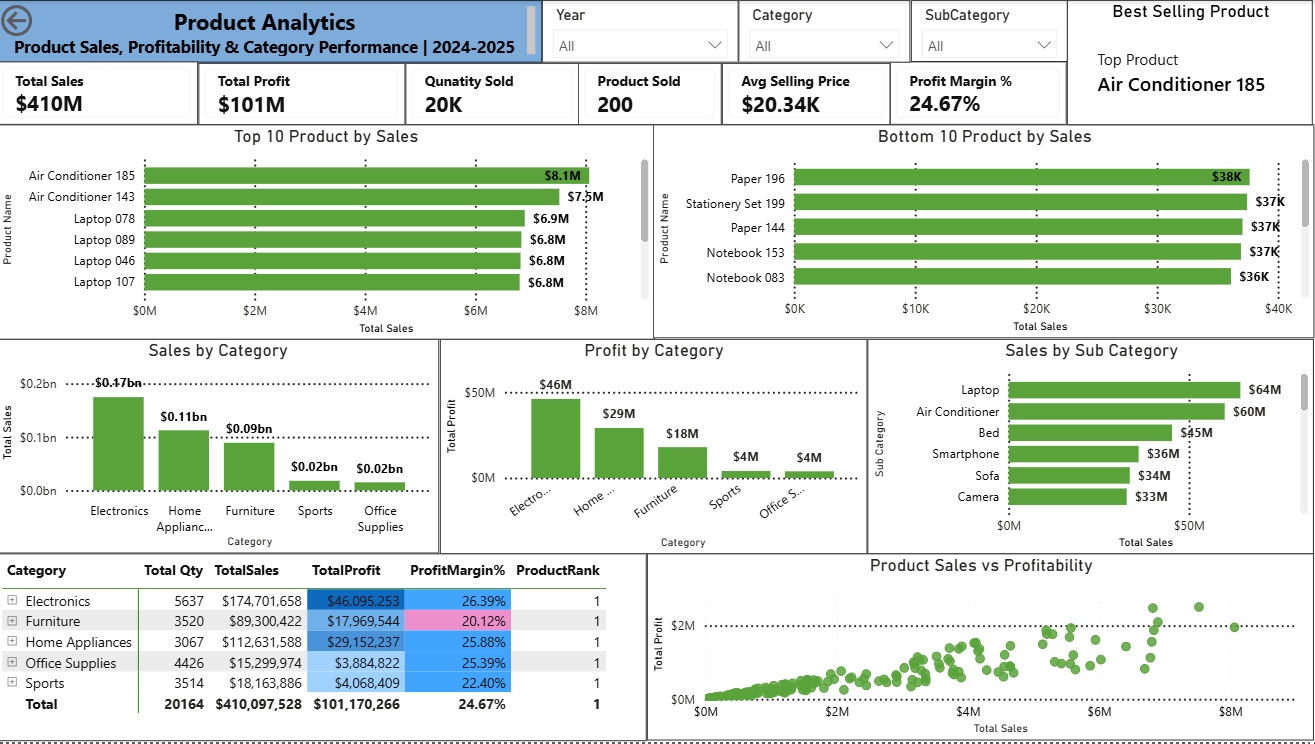

The page's visual inventory and layout, read from the dashboard file:
{"tool":"powerbi","page":{"name":"Product Analytics","canvas":[1280,720],"ordinal":3},"visuals":[{"type":"textbox","box":[0,0,530,60.6],"z":0},{"type":"cardVisual","fields":{"Data":["Orders.Total Sales"]},"box":[0,59.9,195.9,61.5],"z":1000},{"type":"cardVisual","fields":{"Data":["Orders.Total Profit"]},"box":[195.9,61.5,200.8,59.9],"z":2000},{"type":"cardVisual","fields":{"Data":["Orders.Total Qunatity"]},"box":[396.7,61.5,168.4,59.9],"z":3000},{"type":"cardVisual","fields":{"Data":["Customers.Product Sold"]},"box":[565.1,61.5,139.3,59.9],"z":4000},{"type":"cardVisual","fields":{"Data":["Customers.Avg Selling Price"]},"box":[704.4,61.5,163.5,59.9],"z":5000},{"type":"cardVisual","fields":{"Data":["Orders.Profit Margin %"]},"box":[867.9,59.9,171.6,61.5],"z":6000},{"type":"clusteredColumnChart","title":"Sales by Category","fields":{"Category":["Products.Category"],"Y":["Orders.Total Sales"]},"box":[0,328.7,430,208],"z":7000},{"type":"clusteredColumnChart","title":"Profit by Category","fields":{"Category":["Products.Category"],"Y":["Orders.Total Profit"]},"box":[430.7,328.7,414.5,208.9],"z":8000},{"type":"barChart","title":"Sales by Sub Category","fields":{"Category":["Products.SubCategory"],"Y":["Orders.Total Sales"]},"box":[845.2,328.7,434,208.9],"z":9000},{"type":"barChart","title":"Top 10 Product by Sales","fields":{"Category":["Products.ProductName"],"Y":["Orders.Total Sales"]},"box":[0,121.4,639.6,208.9],"z":10000},{"type":"barChart","title":"Bottom 10 Product by Sales","fields":{"Category":["Products.ProductName"],"Y":["Orders.Total Sales"]},"box":[637.2,121.4,642.8,207.3],"z":11000},{"type":"pivotTable","fields":{"Rows":["Products.Category","Products.SubCategory","Products.ProductName"],"Values":["Orders.Total Qunatity","Orders.Total Sales","Orders.Total Profit","Orders.Profit Margin %","Orders.Product Rank"]},"box":[0,537.5,631.4,181.7],"z":12000},{"type":"cardVisual","title":"Best Selling Product","fields":{"Data":["Customers.Top Product"]},"box":[1039.5,0,239.6,121.4],"z":13000},{"type":"scatterChart","title":"Product Sales vs Profitability","fields":{"X":["Orders.Total Sales"],"Y":["Orders.Total Profit"],"Category":["Products.ProductName"]},"box":[631.5,537.6,647.7,181.4],"z":14000},{"type":"slicer","fields":{"Values":["DimDate.Year"]},"box":[530,0,190.8,60.6],"z":15000},{"type":"slicer","fields":{"Values":["Products.Category"]},"box":[720.8,0,166.6,60.6],"z":16000},{"type":"slicer","fields":{"Values":["Products.SubCategory"]},"box":[887.3,0,152.2,59.9],"z":17000},{"type":"actionButton","box":[0,0,100,40],"z":17001}]}

Visuals, with their boxes in screenshot pixels (x1, y1, x2, y2), scaled from the page's 1280x720 canvas onto the 1315x744 screenshot:
textbox: bbox=[0, 0, 544, 63]
cardVisual - Orders.Total Sales: bbox=[0, 62, 201, 125]
cardVisual - Orders.Total Profit: bbox=[201, 64, 408, 125]
cardVisual - Orders.Total Qunatity: bbox=[408, 64, 581, 125]
cardVisual - Customers.Product Sold: bbox=[581, 64, 724, 125]
cardVisual - Customers.Avg Selling Price: bbox=[724, 64, 892, 125]
cardVisual - Orders.Profit Margin %: bbox=[892, 62, 1068, 125]
"Sales by Category" clusteredColumnChart: bbox=[0, 340, 442, 555]
"Profit by Category" clusteredColumnChart: bbox=[442, 340, 868, 556]
"Sales by Sub Category" barChart: bbox=[868, 340, 1314, 556]
"Top 10 Product by Sales" barChart: bbox=[0, 125, 657, 341]
"Bottom 10 Product by Sales" barChart: bbox=[655, 125, 1314, 340]
pivotTable - Products.Category x Products.SubCategory: bbox=[0, 555, 649, 743]
"Best Selling Product" cardVisual: bbox=[1068, 0, 1314, 125]
"Product Sales vs Profitability" scatterChart: bbox=[649, 556, 1314, 743]
slicer - DimDate.Year: bbox=[544, 0, 741, 63]
slicer - Products.Category: bbox=[741, 0, 912, 63]
slicer - Products.SubCategory: bbox=[912, 0, 1068, 62]
actionButton: bbox=[0, 0, 103, 41]
